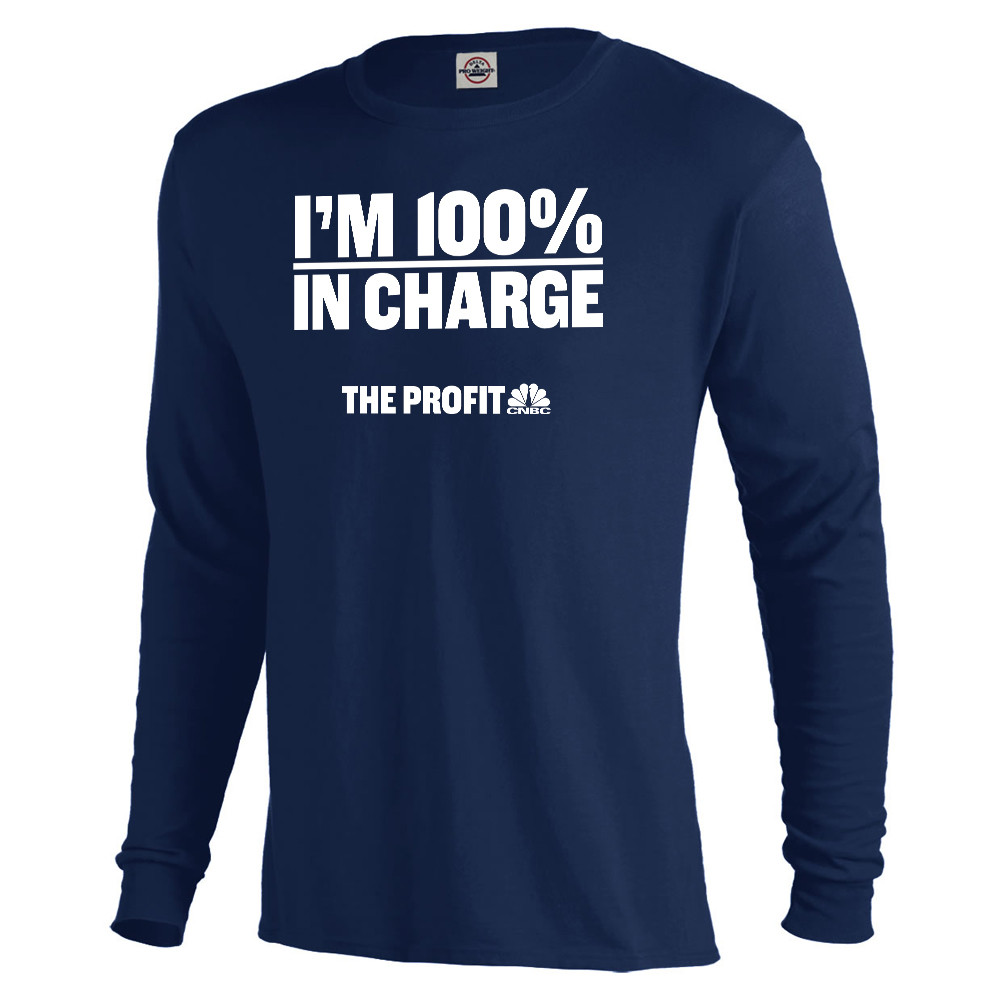T-Shirt: (105, 32, 897, 980)
